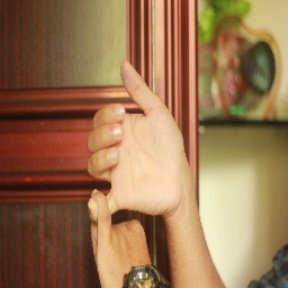S: (70, 59, 188, 284)
